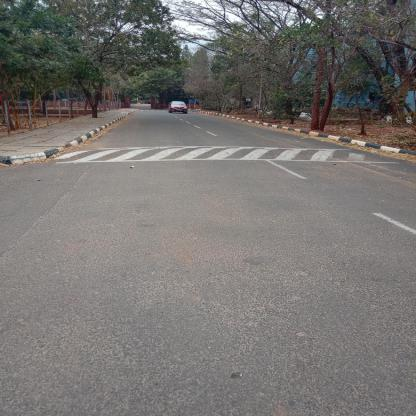speed-bumps: (50, 142, 387, 165)
